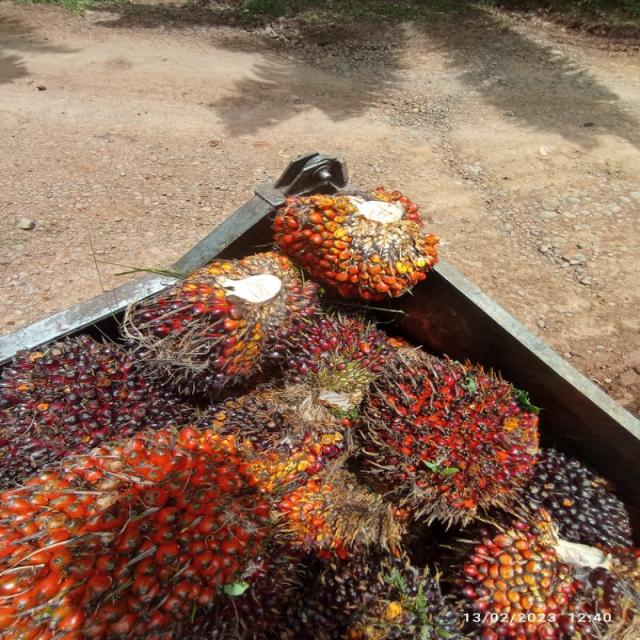fraksi 00: (97, 224, 338, 406)
fraksi 1: (0, 319, 200, 493), (443, 507, 639, 640)
fraksi 4: (0, 419, 308, 640), (215, 134, 512, 354), (340, 350, 555, 523)
